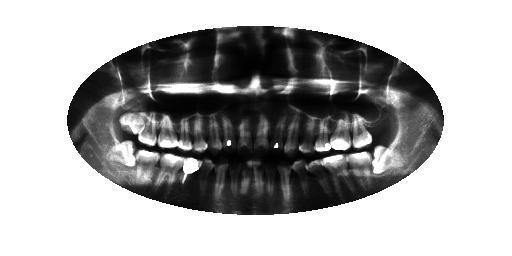i10decay: (230, 159, 242, 197)
i11healthy: (213, 160, 230, 202)
i12decay: (200, 159, 213, 197)
i13loss: (183, 158, 204, 189)
i14healthy: (155, 154, 185, 190)
i15healthy: (135, 150, 161, 182)
i16healthy: (106, 139, 137, 167)
i1healthy: (370, 145, 411, 175)
i2healthy: (346, 153, 375, 190)
i3healthy: (323, 156, 356, 197)
i4healthy: (305, 158, 333, 199)
i5decay: (291, 160, 312, 199)
i6decay: (279, 159, 294, 208)
i7decay: (265, 159, 278, 202)
i8decay: (252, 158, 265, 199)
i9decay: (242, 161, 253, 197)
u10chipped: (222, 112, 237, 157)
u11decay: (205, 114, 223, 158)
u12healthy: (192, 112, 208, 155)
u13healthy: (177, 114, 193, 152)
u14healthy: (158, 111, 178, 152)
u15healthy: (138, 110, 159, 148)
u16healthy: (118, 104, 146, 135)
u1loss: (367, 118, 391, 143)
u2healthy: (350, 113, 373, 148)
u3healthy: (330, 113, 350, 151)
u4healthy: (313, 115, 331, 153)
u5decay: (298, 112, 316, 157)
u6decay: (284, 110, 298, 159)
u7decay: (271, 111, 288, 153)
u8chipped: (253, 111, 270, 155)
u9chipped: (237, 113, 254, 158)
